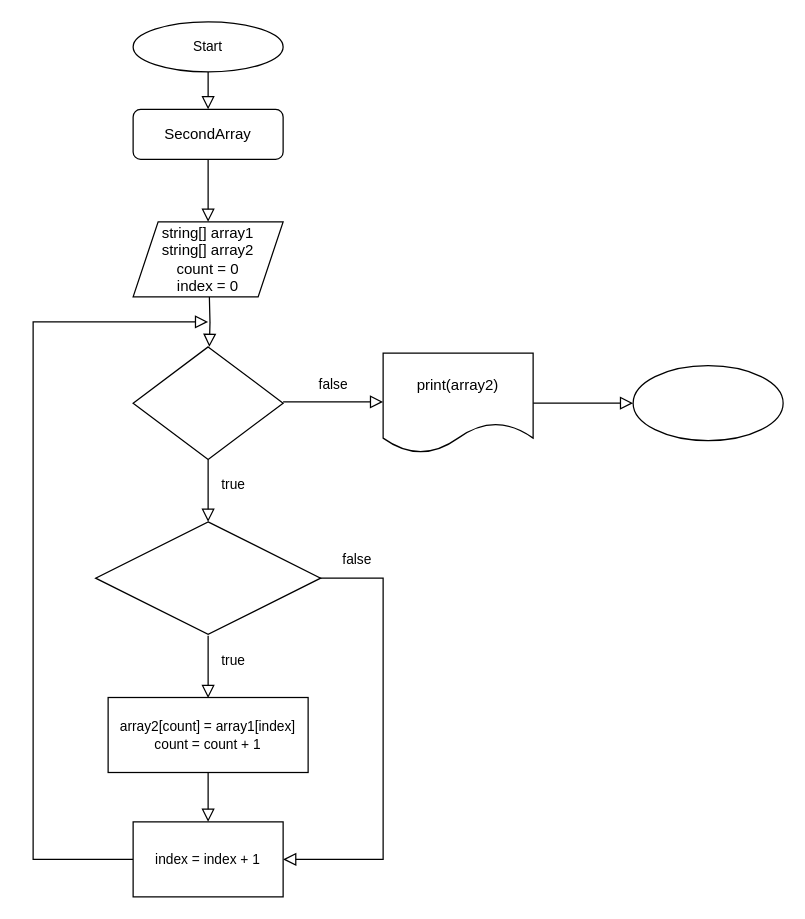
Image size: 805x919. Some labels were removed from this diagram. Here are the shapes that lost their labels. From the top down, the centre of each, then its label:
At (207,402): "index < array1.length".
At (707,402): "finish".
At (207,577): "array1[index].length <= 3".
